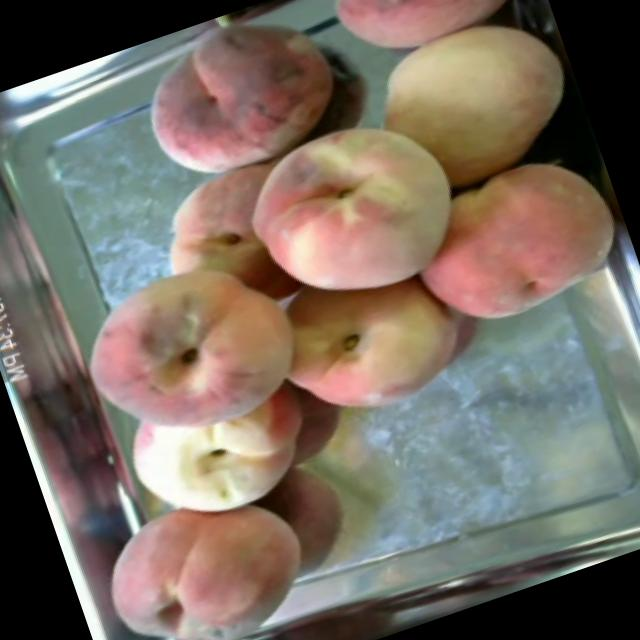Fruit: (217, 88, 502, 342), (59, 232, 328, 474), (382, 137, 640, 357), (115, 0, 375, 199), (73, 458, 334, 640), (252, 240, 484, 444), (306, 0, 573, 147)
